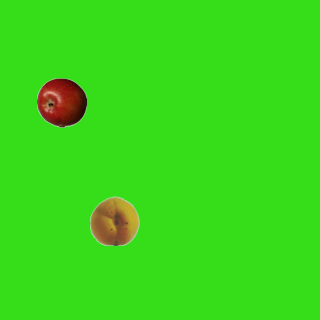Apple Braeburn: (36, 77, 86, 127)
Peach 2: (89, 195, 139, 245)
